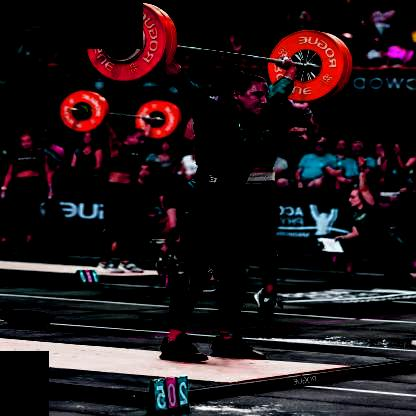barbell: (85, 1, 165, 83), (265, 29, 342, 103)
